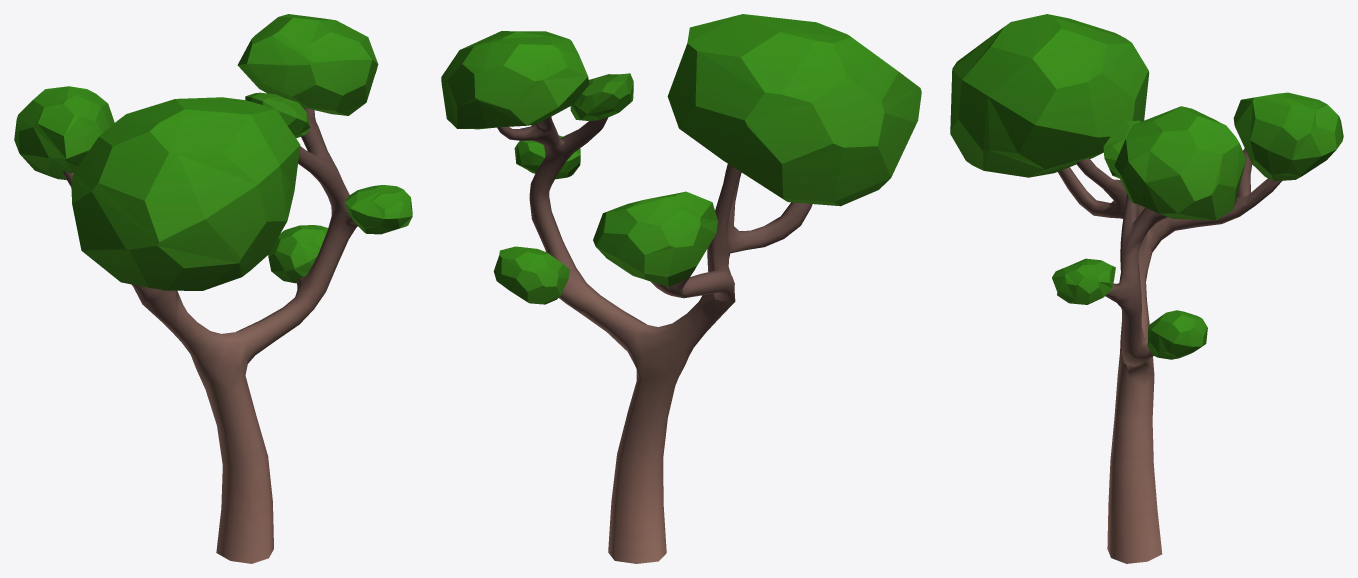
Rendered from SM_Exterior_Arbol_02.fbx.
3 views of the same model, side by side, from view 1: azimuth 30°, elevation 25°; view 2: azimuth 150°, elevation 25°; view 3: azimuth 270°, elevation 25° (orthographic). The views are drawn at different scales.
Parts seen in each view (by area): view 1: SM_Exterior_Arbol2; view 2: SM_Exterior_Arbol2; view 3: SM_Exterior_Arbol2.
Boxes of the visible parts, left/top/right/bottom form: SM_Exterior_Arbol2: left=14, top=14, right=412, bottom=563; SM_Exterior_Arbol2: left=441, top=14, right=921, bottom=563; SM_Exterior_Arbol2: left=950, top=14, right=1343, bottom=563.
Size of the model in its own units: 595 by 782 by 583.
